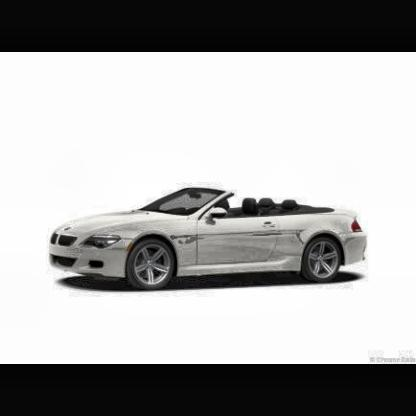BMW M6 Convertible 2010: (51, 188, 369, 291)
